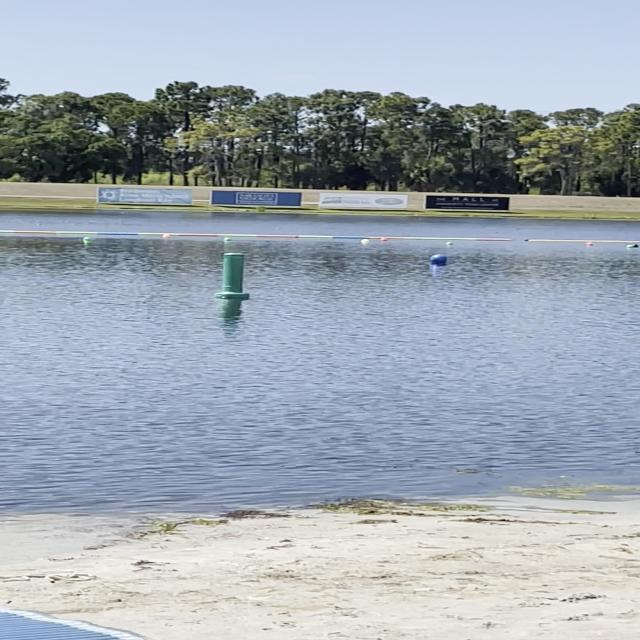buoy: (432, 253, 446, 264)
